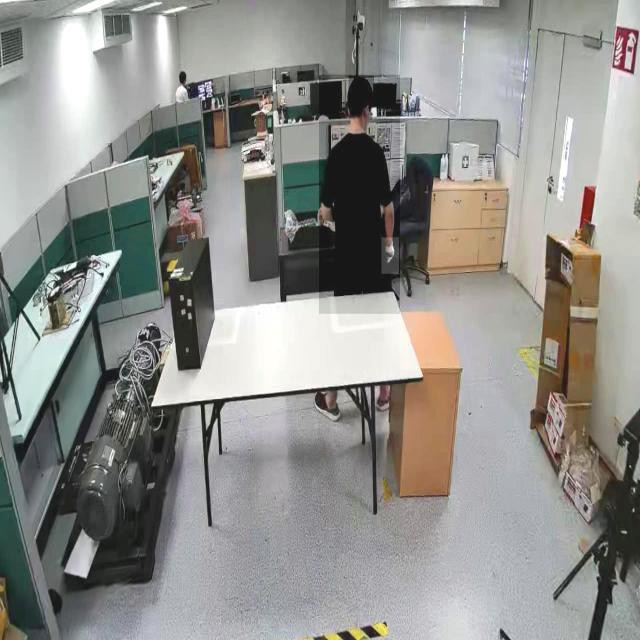hand_glove: (381, 237, 399, 275)
head_nohelmet: (348, 76, 374, 95), (179, 70, 187, 78)
person: (318, 74, 400, 314)
shoes: (313, 387, 342, 425)
